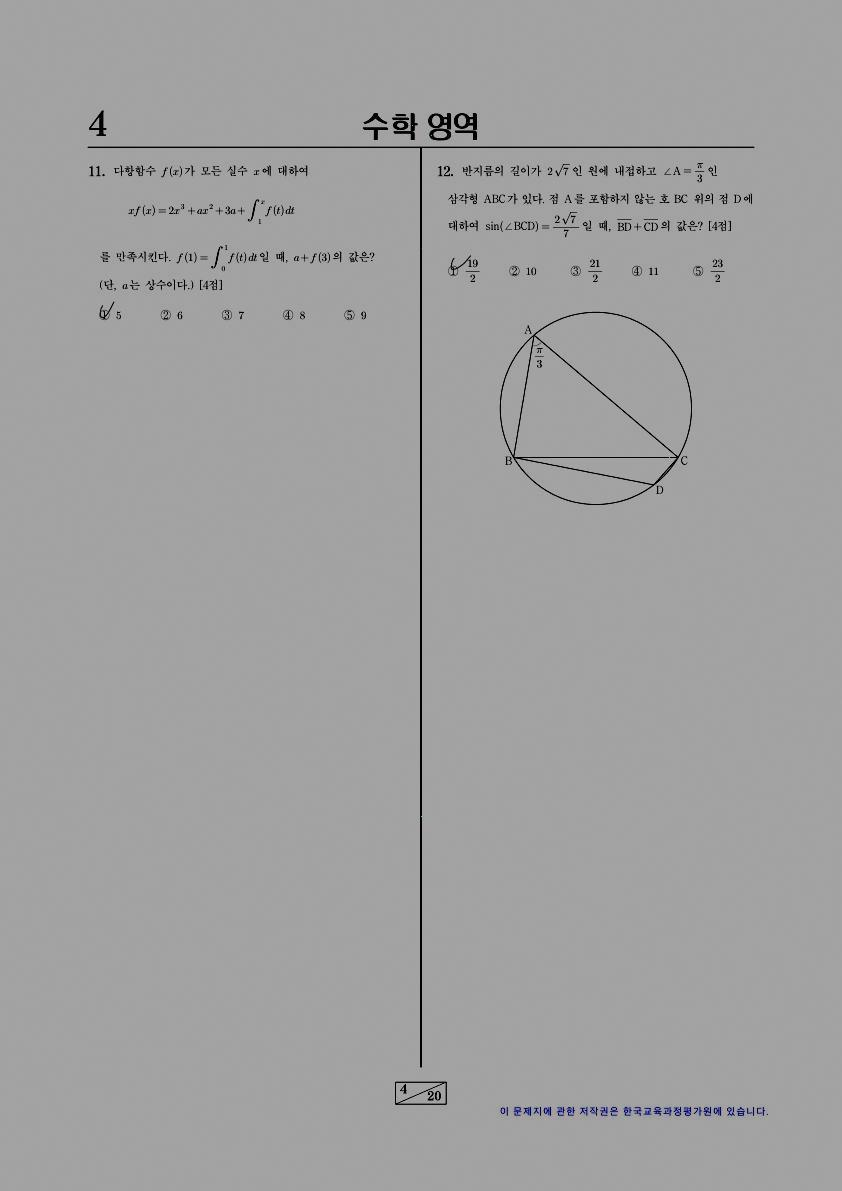question: (426, 152, 763, 520), (72, 154, 396, 351)
